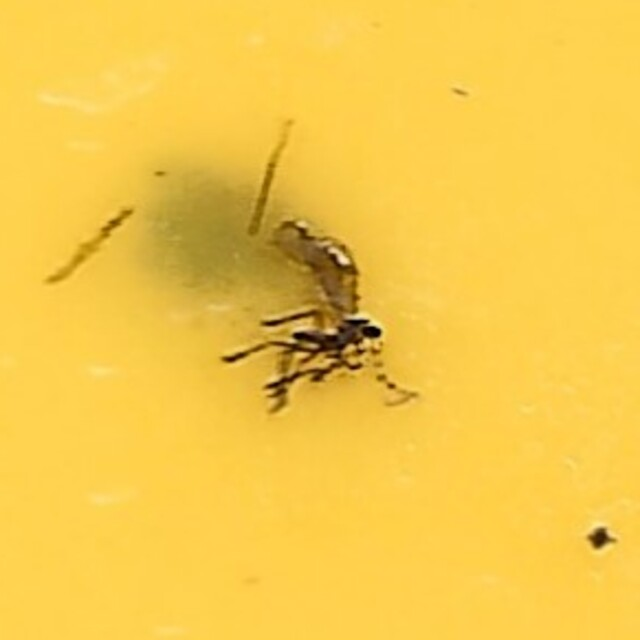Nematocera: (220, 215, 420, 425)
